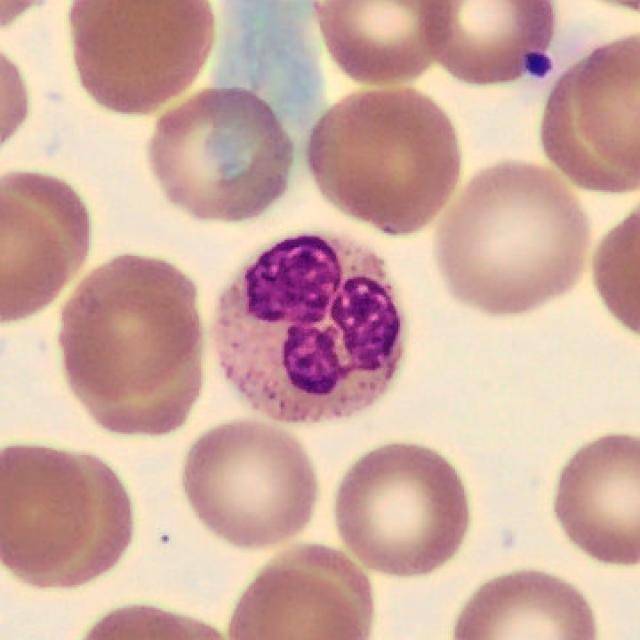Neutrofilo segmentado: (215, 235, 400, 420)
